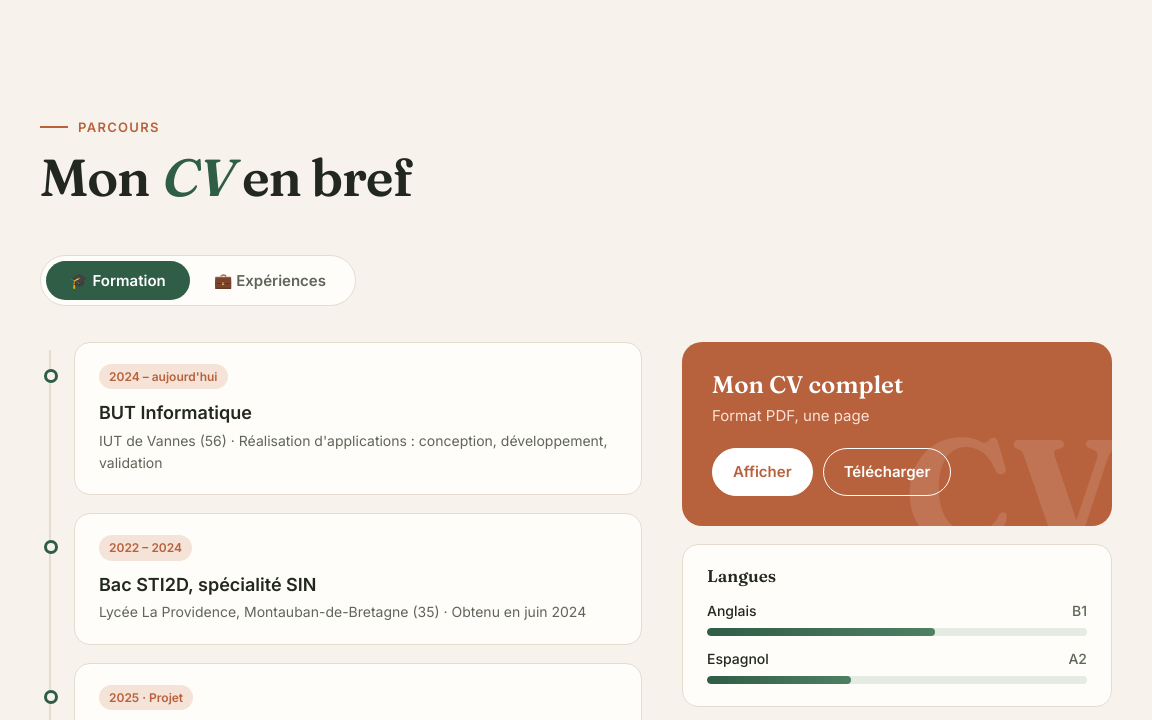
<Career /> › bascule entre formation et expériences
Expected: the heading "BUT Informatique" is shown, [99, 402, 252, 423]
Click the tab "💼 Expériences" at [270, 280], box [190, 261, 350, 300]
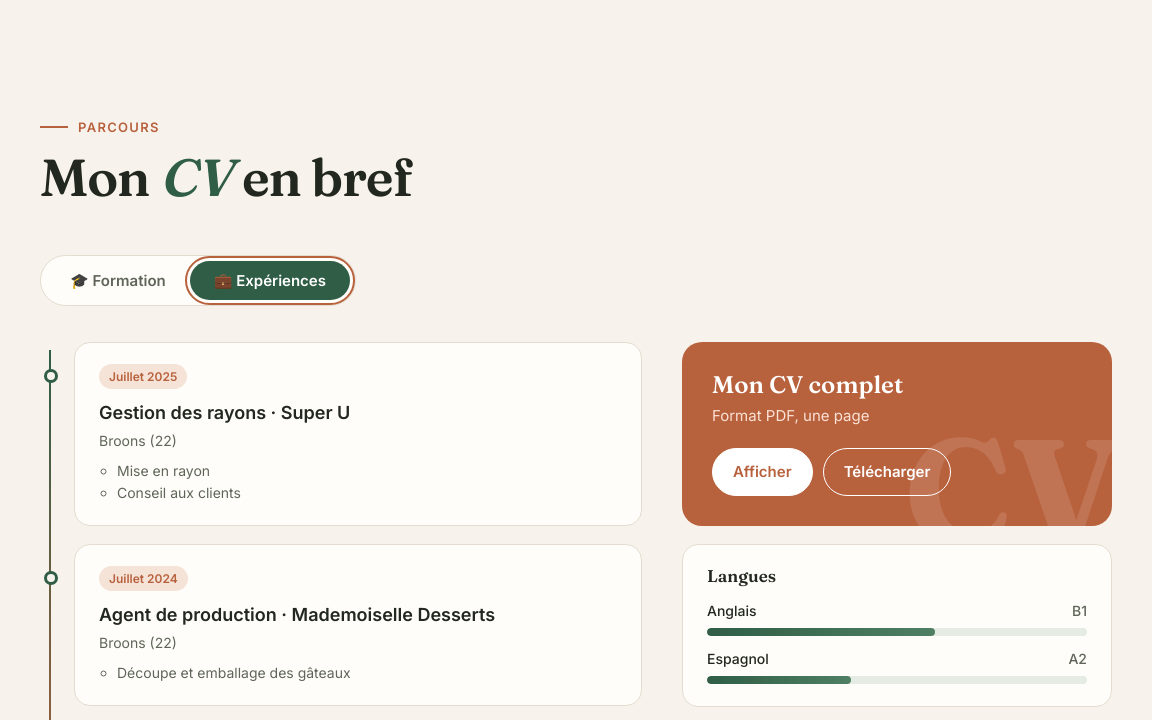
Expected: the heading "Gestion des rayons · Super U" is shown, [99, 402, 350, 423]
Expected: the heading "BUT Informatique" is gone
